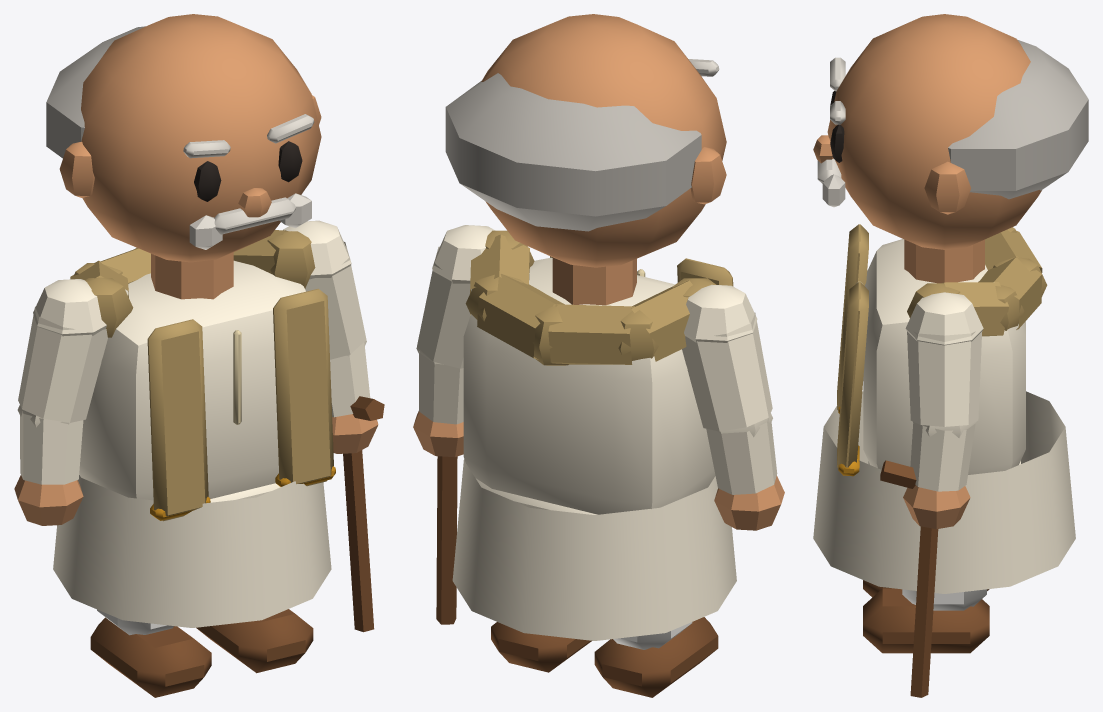
File: trav_elder.glb
The picture shows the model from 3 angles, left to right: view 1: azimuth 30°, elevation 25°; view 2: azimuth 150°, elevation 25°; view 3: azimuth 270°, elevation 25°; orthographic projection. The views are drawn at different scales.
Visible parts, largest first — view 1: body, head, arm_r, arm_l, leg_r, leg_l, stick; view 2: body, head, arm_r, arm_l, leg_r, stick, leg_l; view 3: body, head, arm_l, leg_l, stick.
Part boxes in pixels (x1=…): body: x1=53, y1=230, x2=335, y2=627; head: x1=46, y1=14, x2=321, y2=262; arm_r: x1=14, y1=279, x2=107, y2=525; arm_l: x1=283, y1=220, x2=378, y2=453; leg_r: x1=90, y1=609, x2=211, y2=697; leg_l: x1=196, y1=609, x2=313, y2=673; stick: x1=343, y1=396, x2=384, y2=632; body: x1=452, y1=230, x2=736, y2=640; head: x1=445, y1=14, x2=726, y2=267; arm_r: x1=682, y1=284, x2=784, y2=530; arm_l: x1=413, y1=225, x2=495, y2=457; leg_r: x1=594, y1=617, x2=718, y2=697; stick: x1=436, y1=456, x2=457, y2=624; leg_l: x1=491, y1=622, x2=591, y2=672; body: x1=813, y1=224, x2=1075, y2=593; head: x1=813, y1=14, x2=1088, y2=249; arm_l: x1=903, y1=292, x2=983, y2=529; leg_l: x1=863, y1=588, x2=989, y2=653; stick: x1=880, y1=460, x2=938, y2=697.
Bounding box in the file's own units: 0.586 × 0.9906 × 0.4152.
1 material, 1 textured.
